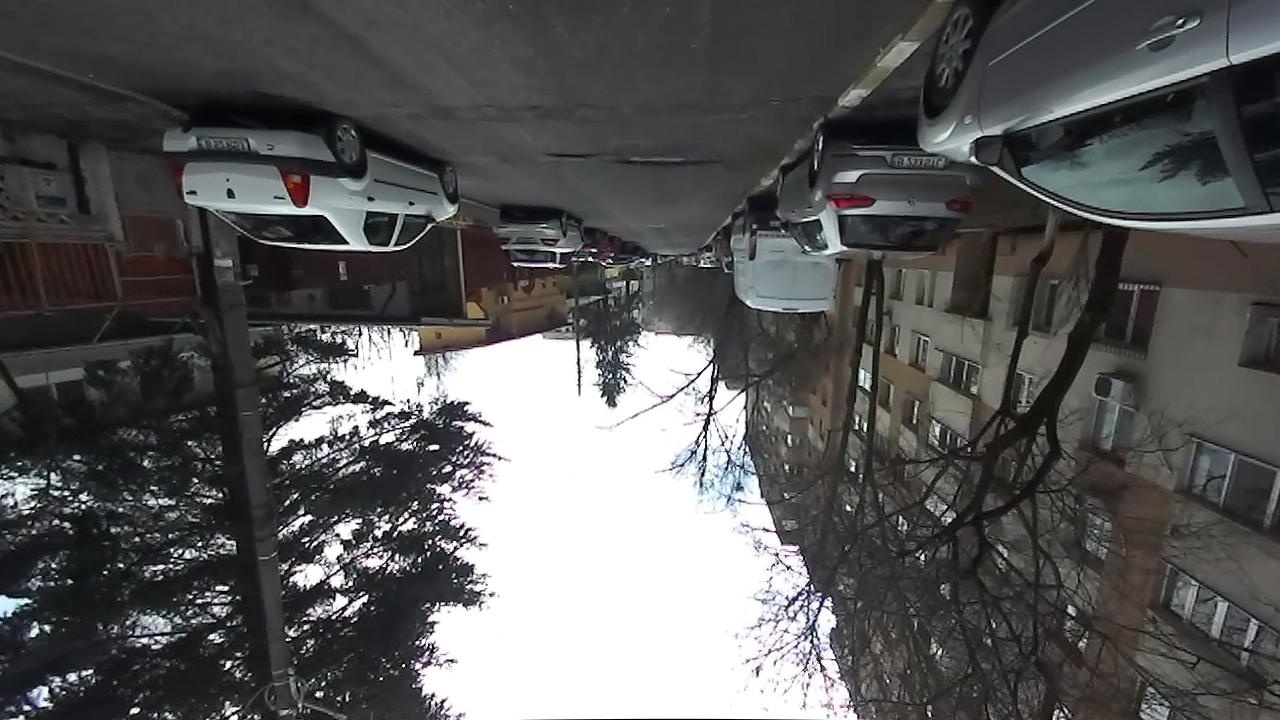pothole: (614, 149, 725, 171), (543, 147, 606, 161)
